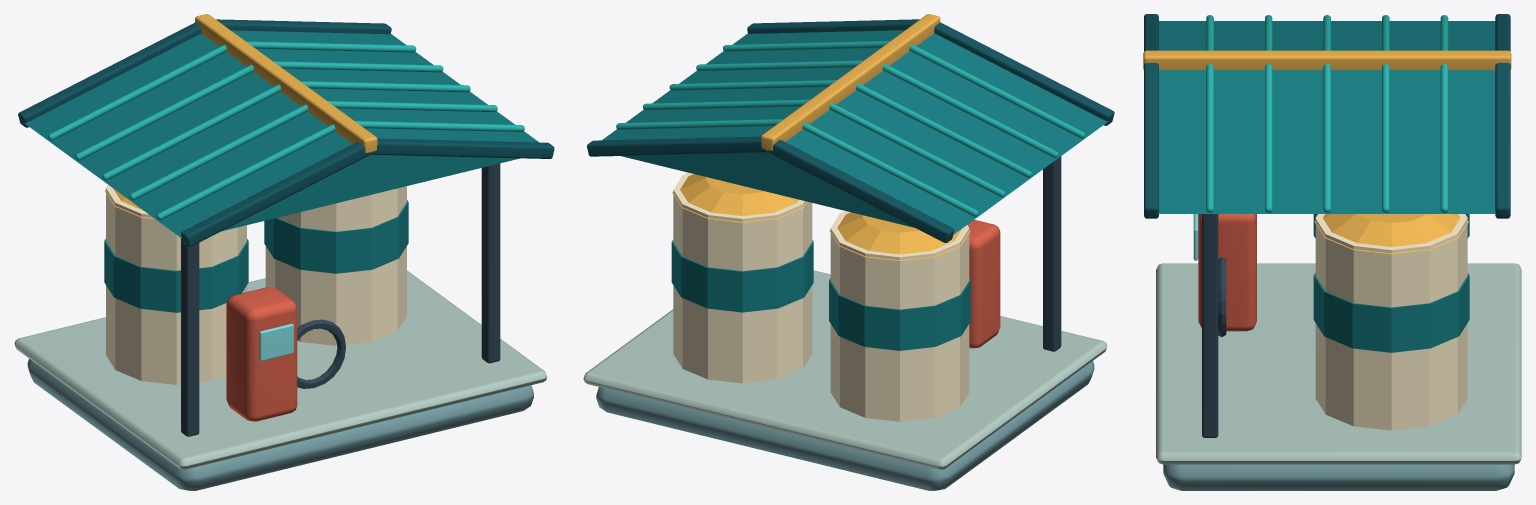
The model's file is Fuel_T2.fbx.
3 views of the same model, side by side, from view 1: azimuth 30°, elevation 25°; view 2: azimuth 150°, elevation 25°; view 3: azimuth 270°, elevation 25° (orthographic). The views are drawn at different scales.
Parts seen in each view (by area): view 1: Fuel_T2_Static; view 2: Fuel_T2_Static; view 3: Fuel_T2_Static.
Part boxes in pixels (x1,y1,x2,y2): Fuel_T2_Static: (14,14,554,490); Fuel_T2_Static: (583,14,1114,490); Fuel_T2_Static: (1143,14,1521,490).
Bounding box in the file's own units: 3.92 × 3.31 × 3.23.
Materials: 1 (1 with a texture image).
